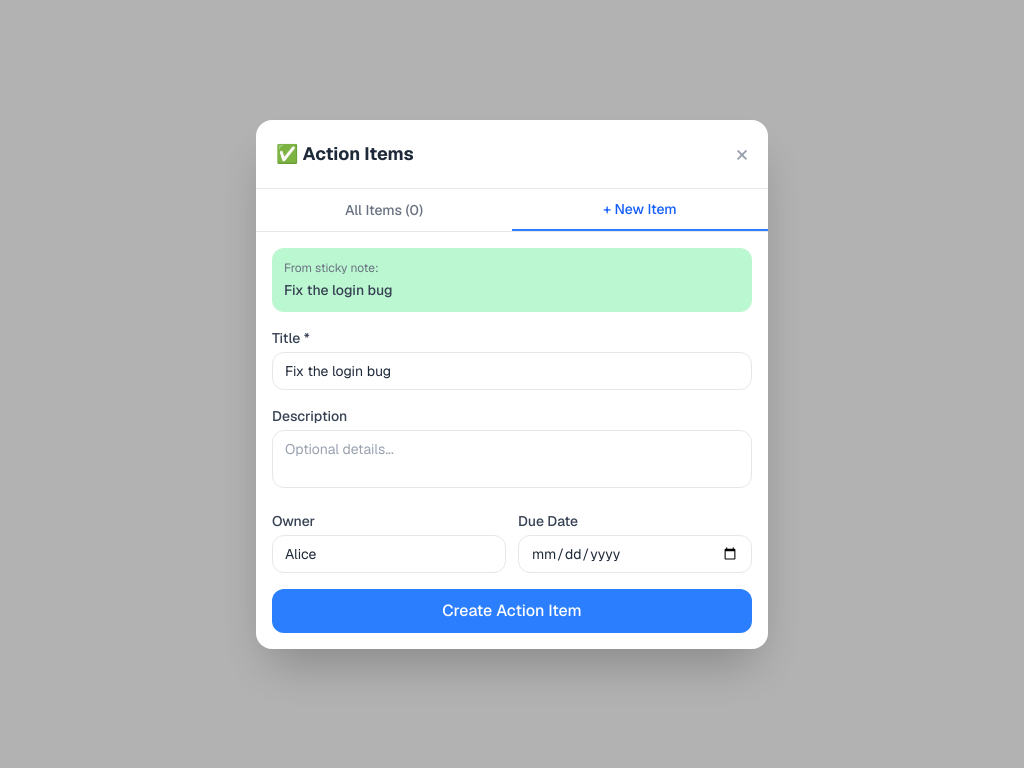
Test: ActionItemModal — initialView=create › returns to list view after successful create
Step 1. Type "New task" into the field with placeholder "What needs to be done?" below "Title *" → (512, 370), box [272,352,752,390]
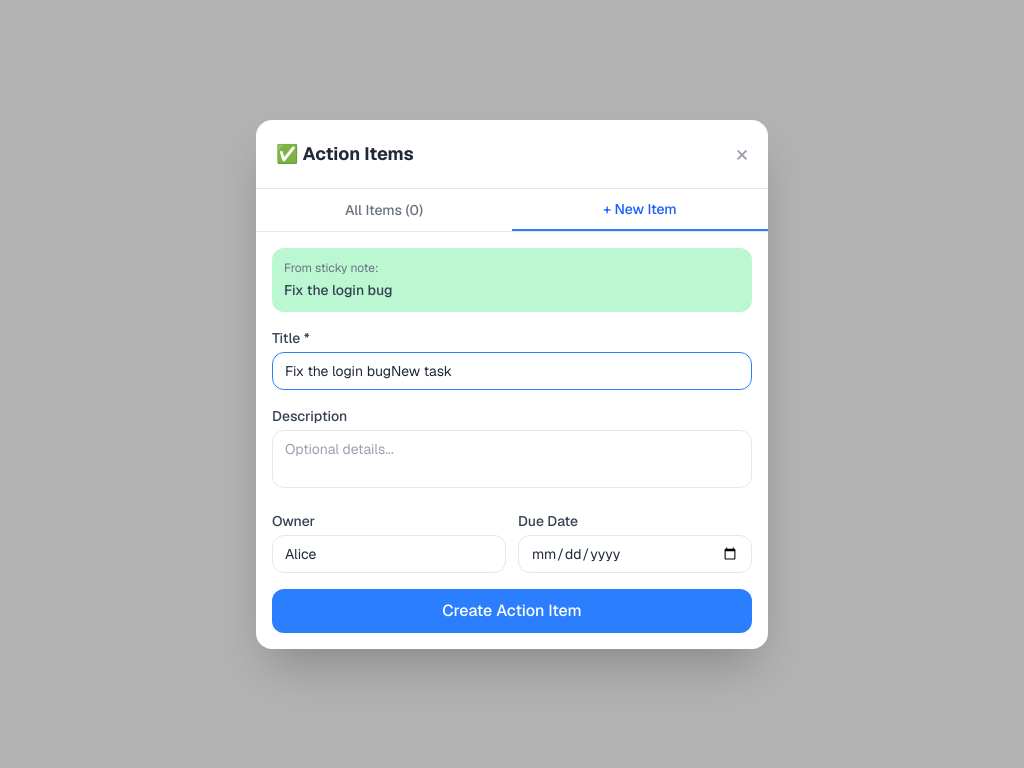
Step 2. Click the button "Create Action Item" → (512, 610), box [272,588,752,632]
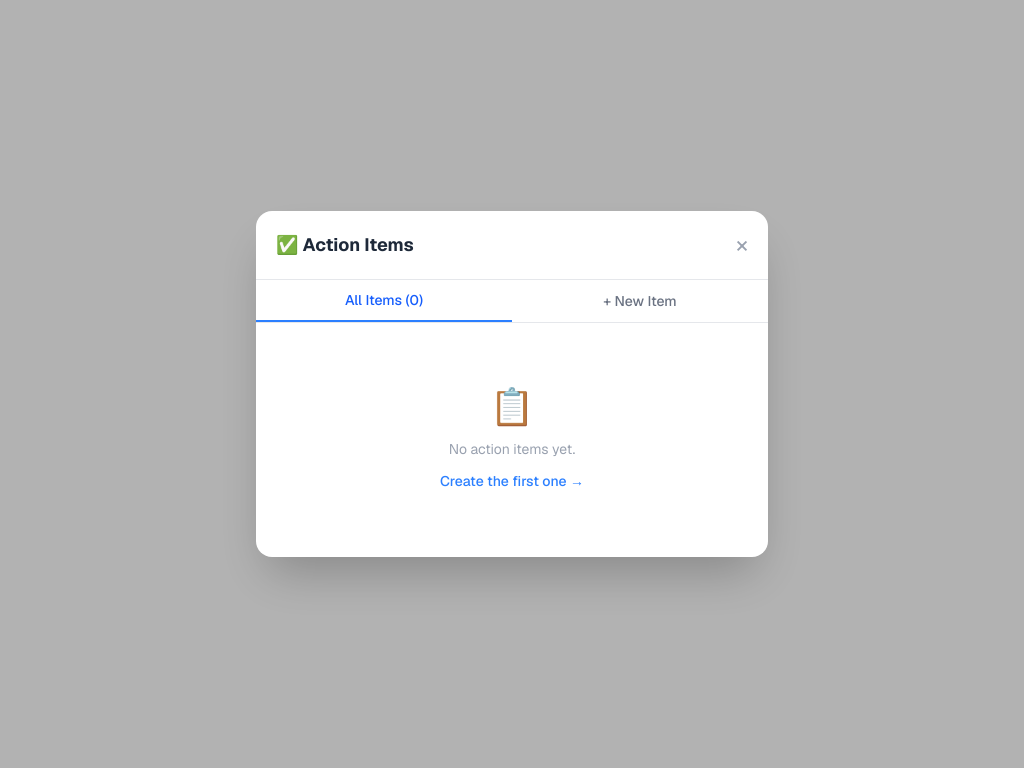
Now the text "No action items yet." is shown, box [449,440,575,458]
